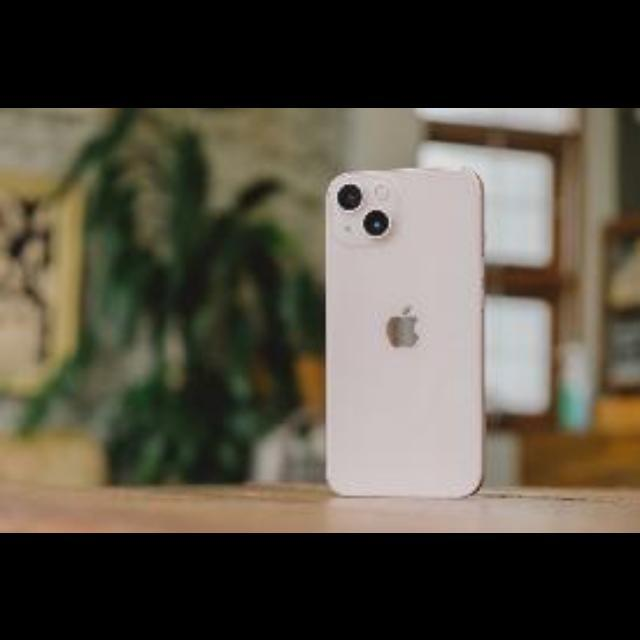Phone: (319, 168, 481, 502)
